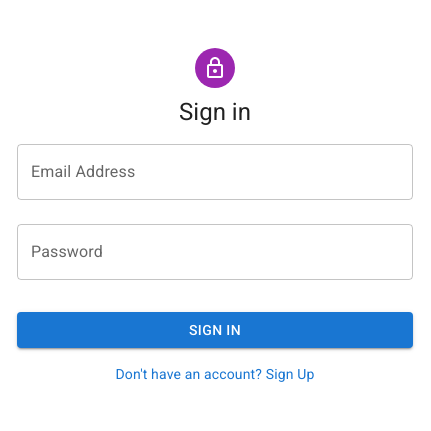
it: <Signin /> › does NOT navigate when the response carries no token
Type "ada@example.com" into the field labelled "Email Address". click: (215, 172)
box: [17,144,413,200]
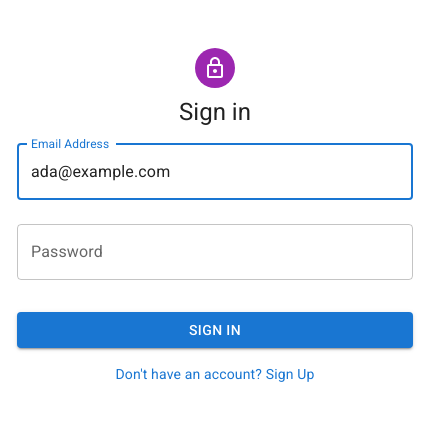
Type "abcd1234" into the password field labelled "Password". click: (215, 252)
box: [17,224,413,280]
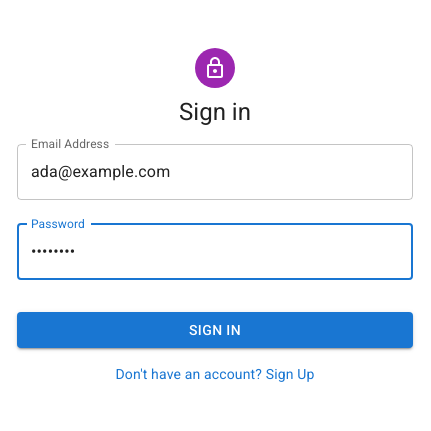
Click the button "Sign In". click: (215, 330)
box: [17,312,413,348]
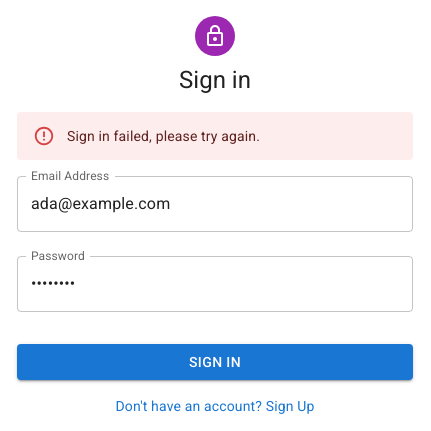
Check: the message reads "Sign in failed, please try again.", box [67,128,260,144]
